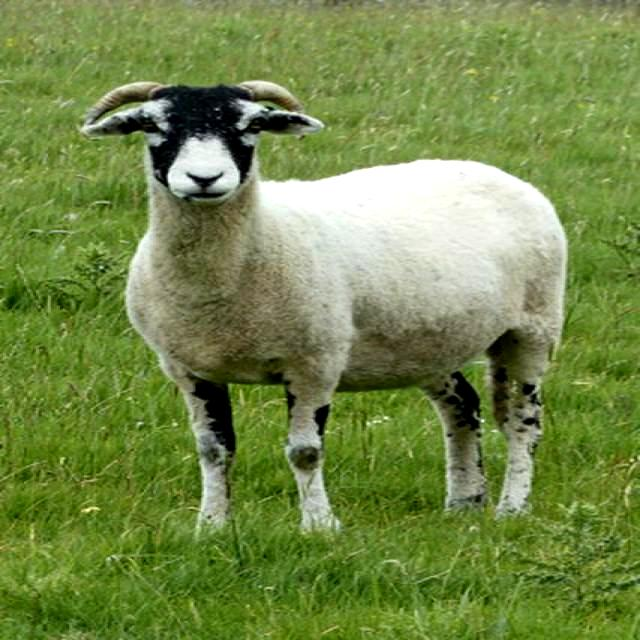sheep: (77, 74, 572, 542)
